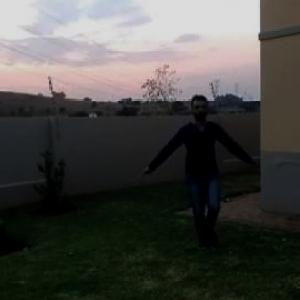land: (141, 96, 249, 234)
